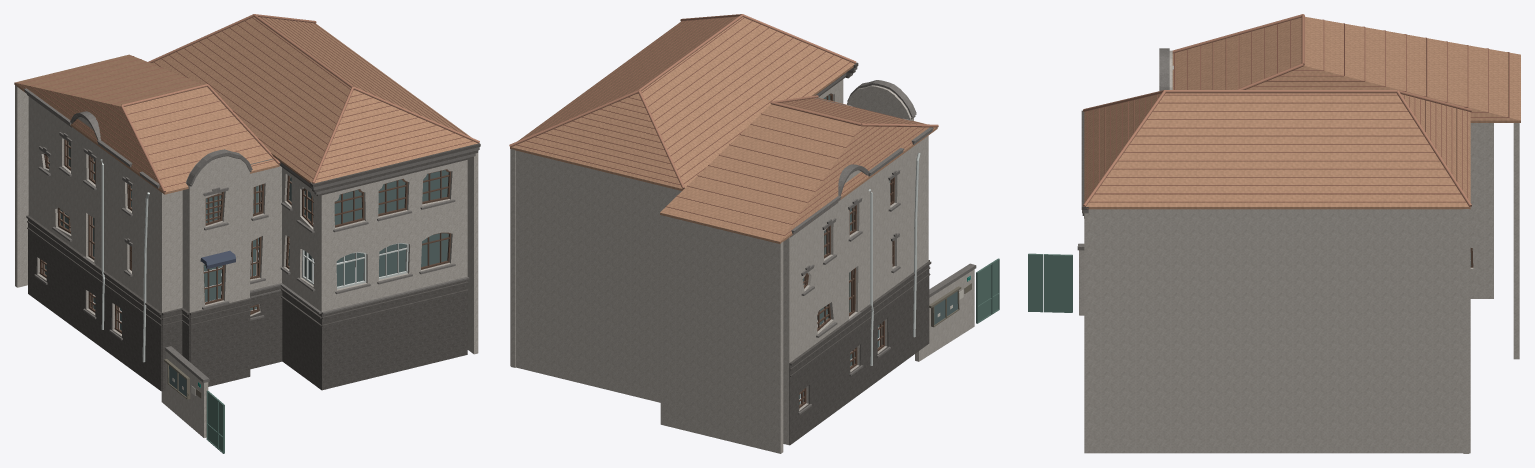
File: changning-yuyuan-1112-no4-web.glb
3 views of the same model, side by side, from view 1: azimuth 30°, elevation 25°; view 2: azimuth 150°, elevation 25°; view 3: azimuth 270°, elevation 25° (orthographic). The views are drawn at different scales.
Visible parts, largest first — view 1: 愚园路1112弄4号蒋光鼐旧居; view 2: 愚园路1112弄4号蒋光鼐旧居; view 3: 愚园路1112弄4号蒋光鼐旧居.
Part boxes in pixels (left/top/right/bottom): 愚园路1112弄4号蒋光鼐旧居: left=14, top=14, right=480, bottom=453; 愚园路1112弄4号蒋光鼐旧居: left=509, top=14, right=999, bottom=453; 愚园路1112弄4号蒋光鼐旧居: left=1028, top=14, right=1520, bottom=453.
Bounding box in the file's own units: 16.48 × 15.62 × 21.18.
15 materials, 5 textured.
